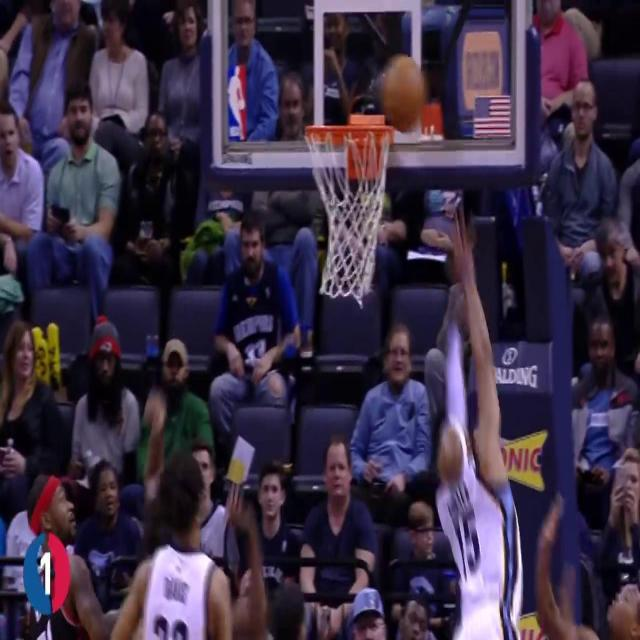basketball: (385, 49, 430, 137)
hoop: (298, 108, 396, 308)
